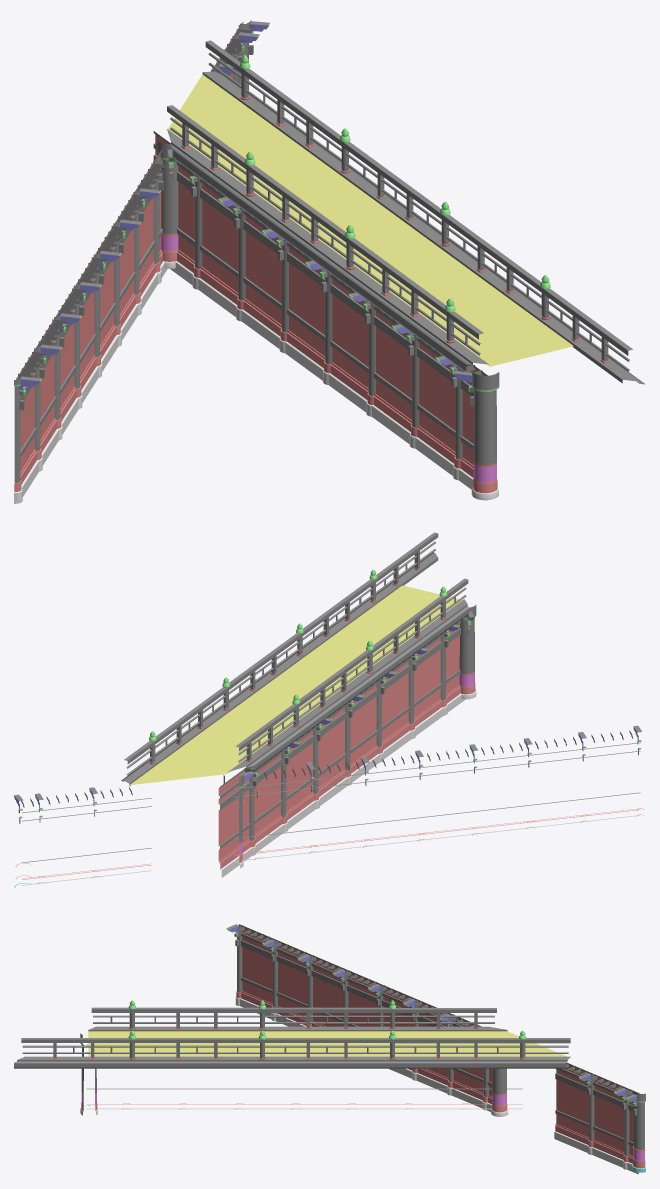
Rendered from SM_ENV_KNVLLG03_Bridge_ConnectorD.gltf.
3 renders of one model, top to bottom at view 1: azimuth 30°, elevation 25°; view 2: azimuth 150°, elevation 25°; view 3: azimuth 270°, elevation 25°, orthographic. The views are drawn at different scales.
Parts seen in each view (by area): view 1: SM_ENV_KNVLLG03_Bridge_ConnectorD; view 2: SM_ENV_KNVLLG03_Bridge_ConnectorD; view 3: SM_ENV_KNVLLG03_Bridge_ConnectorD.
Part boxes in pixels (x1=…): SM_ENV_KNVLLG03_Bridge_ConnectorD: x1=14, y1=20, x2=645, y2=503; SM_ENV_KNVLLG03_Bridge_ConnectorD: x1=14, y1=532, x2=645, y2=887; SM_ENV_KNVLLG03_Bridge_ConnectorD: x1=14, y1=924, x2=645, y2=1174.
Size of the model in its own units: 27.51 by 8.34 by 41.52.
